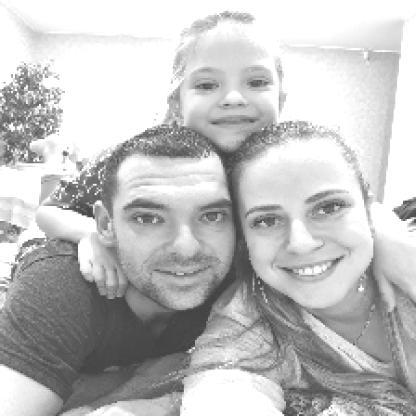child: (159, 6, 291, 153)
